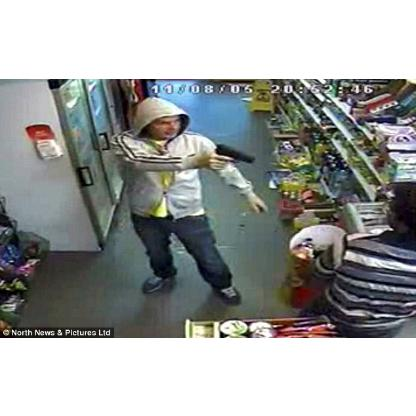gun: (212, 139, 256, 170)
